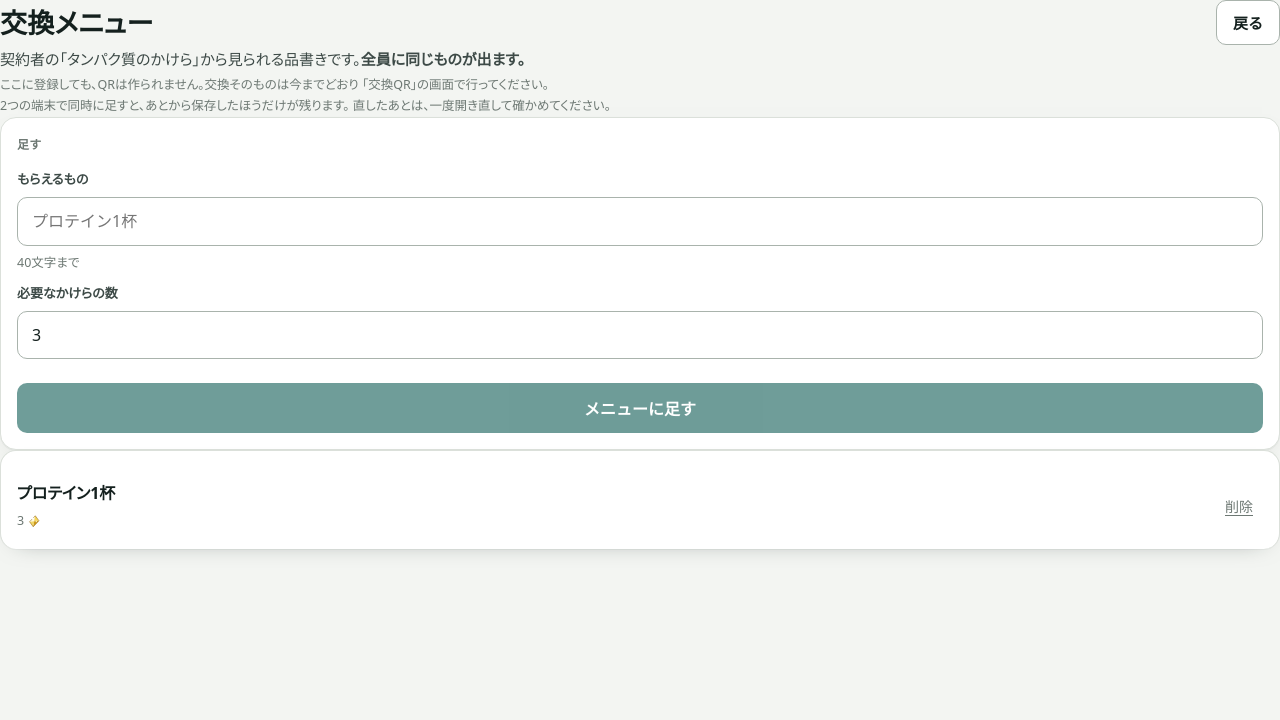
Test: 消す › ★ いきなり消さない
Expected: the text "プロテイン1杯" is shown, [17,482,115,504]
What coordinates should you click on to do the following:
click the button "削除"
I would click on:
 (1239, 506)
Its box is [1215,486,1263,526].
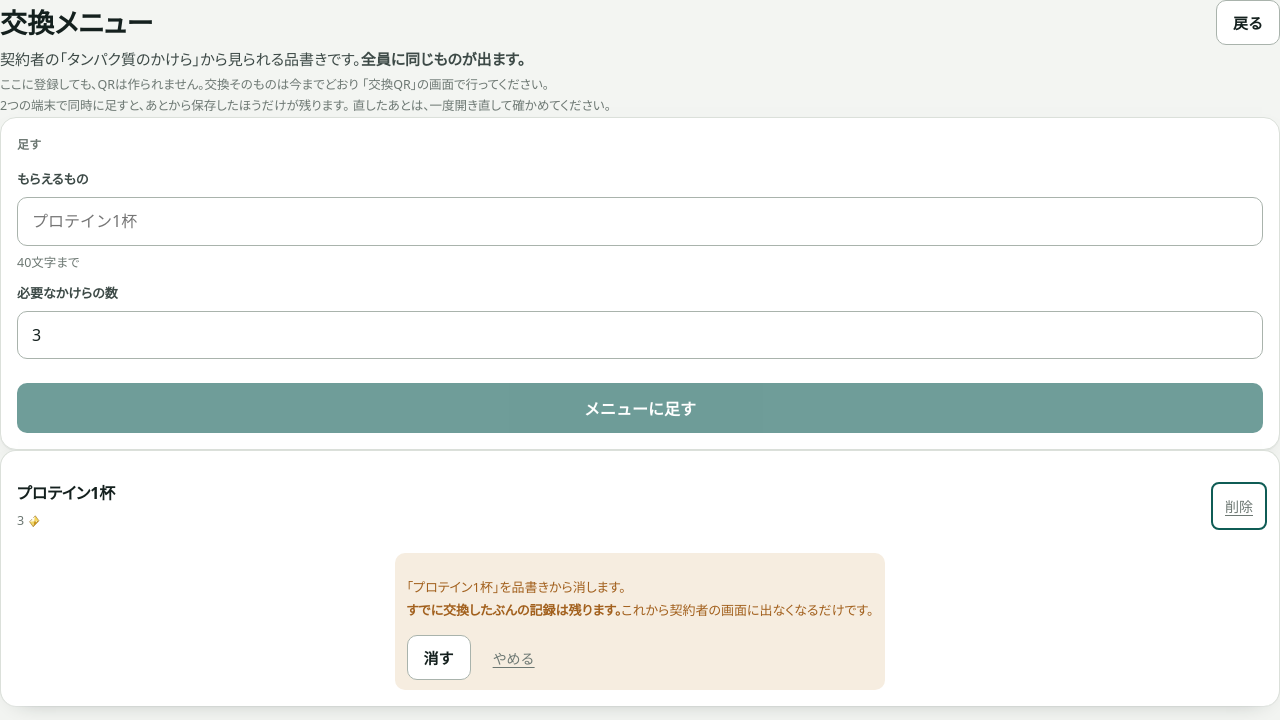
Now the text "「プロテイン1杯」を品書きから消します。すでに交換したぶんの記録は残ります。これから契約者の画面に出なくなるだけです。" is shown, box [407,576,873,622]
